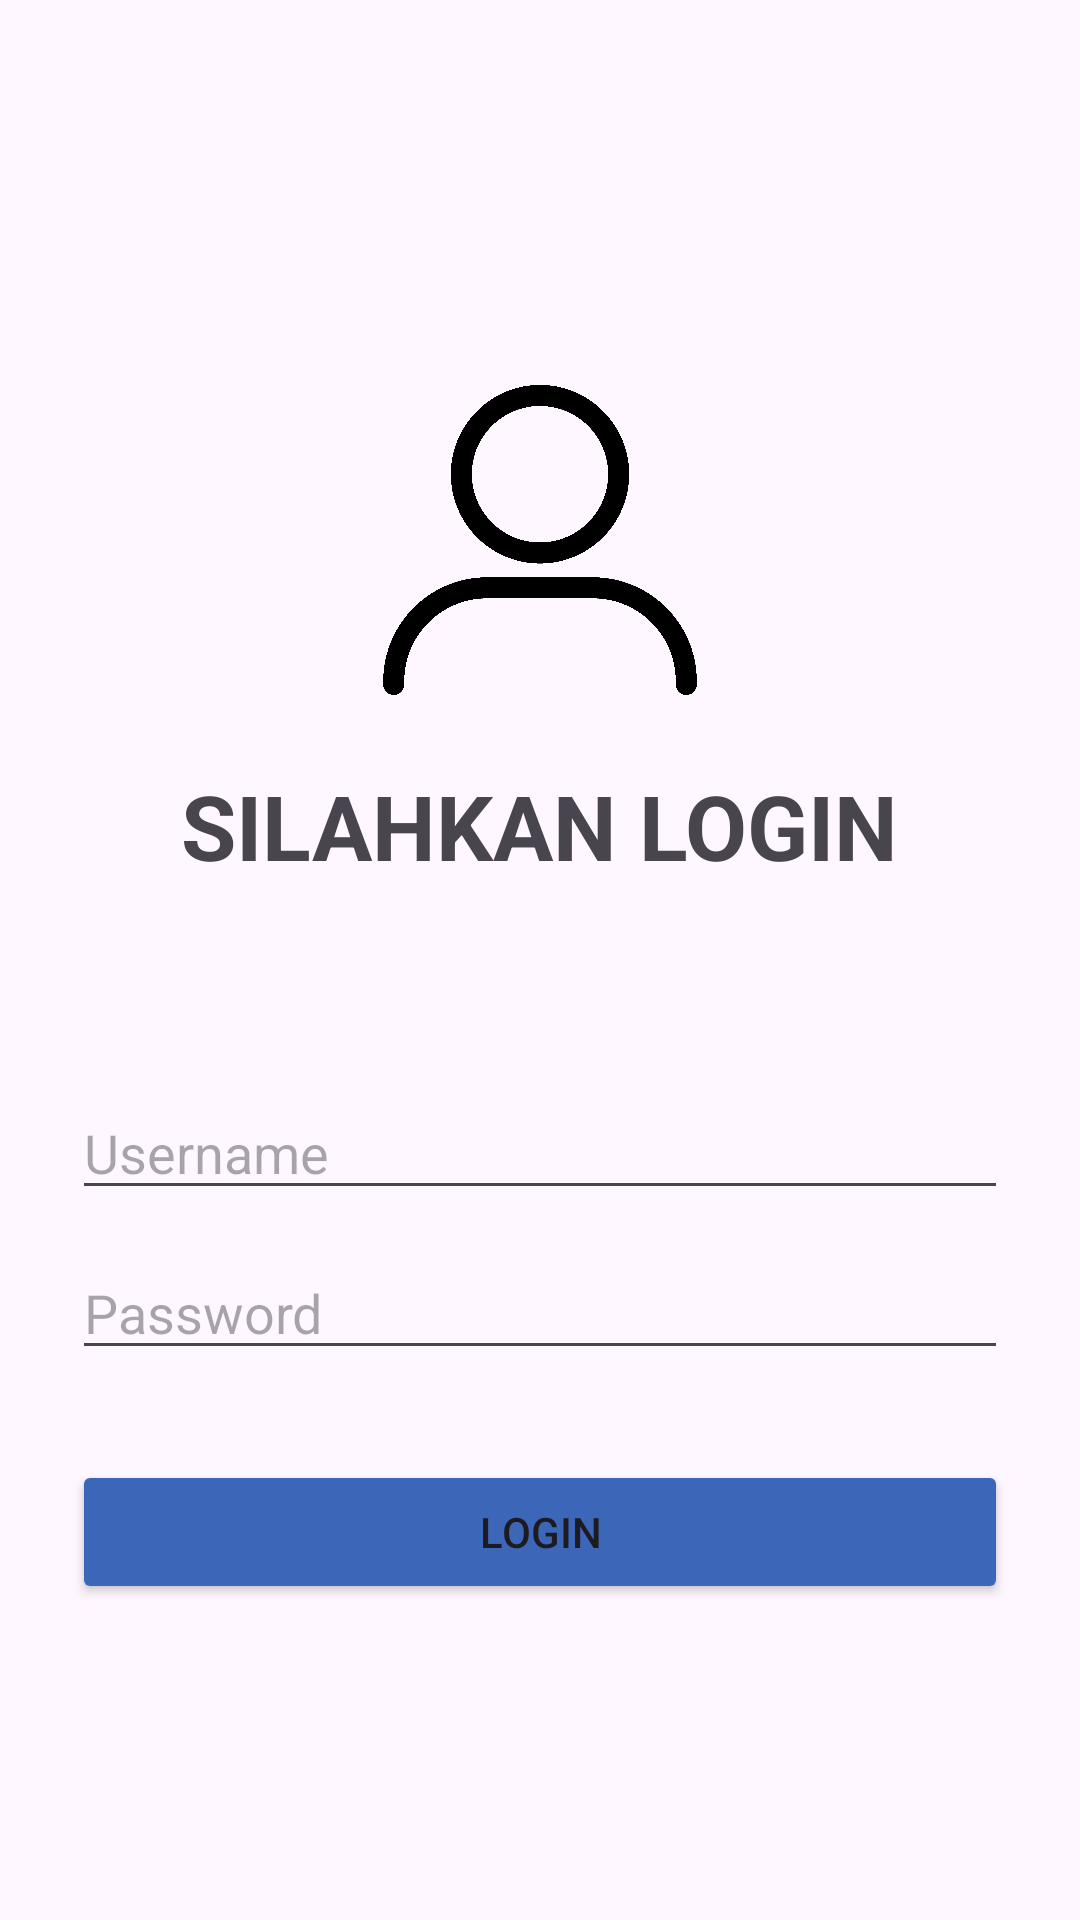

Screen size 1080 x 1920. Icon name, then its center in pixels as (x=x, y=y):
loginpageicon: (x=540, y=540)
